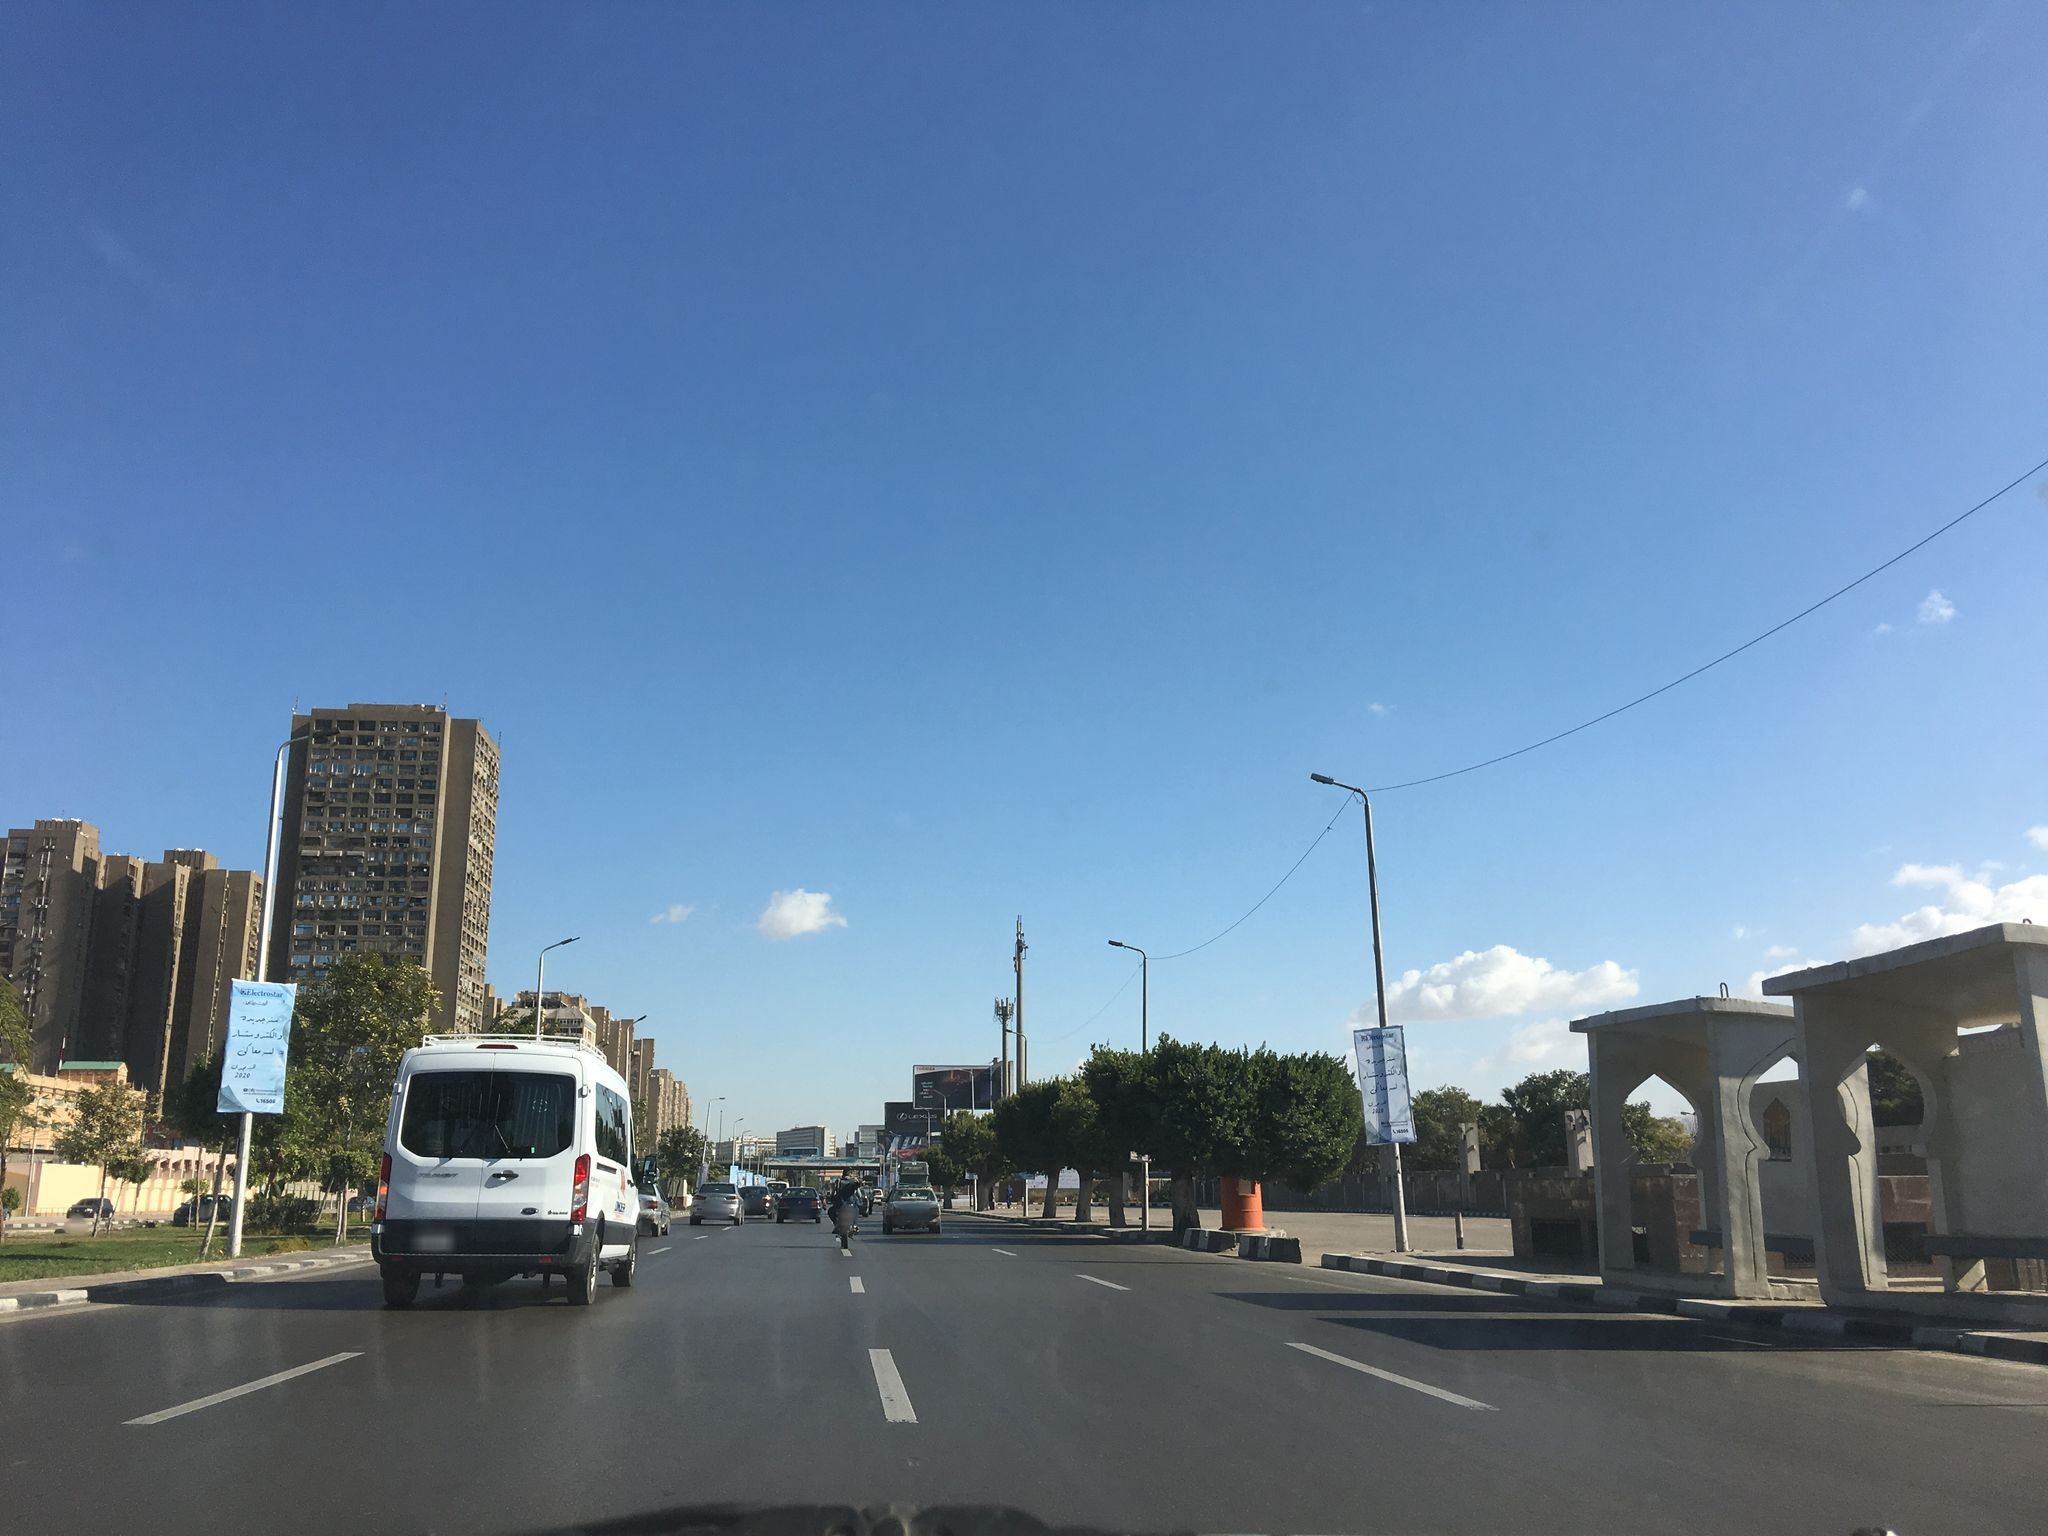car: (368, 1031, 658, 1309), (884, 1184, 942, 1234), (689, 1183, 743, 1225), (637, 1181, 671, 1238), (776, 1186, 821, 1223), (171, 1194, 231, 1221), (737, 1184, 776, 1220), (66, 1197, 114, 1220), (764, 1179, 789, 1202), (347, 1196, 376, 1212), (871, 1187, 884, 1205)
motorcycle: (824, 1186, 863, 1247)
